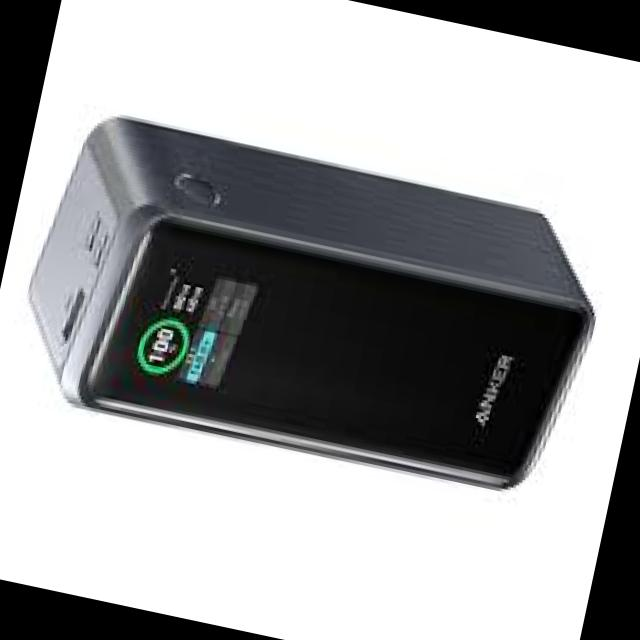power_bank: (4, 99, 616, 515)
